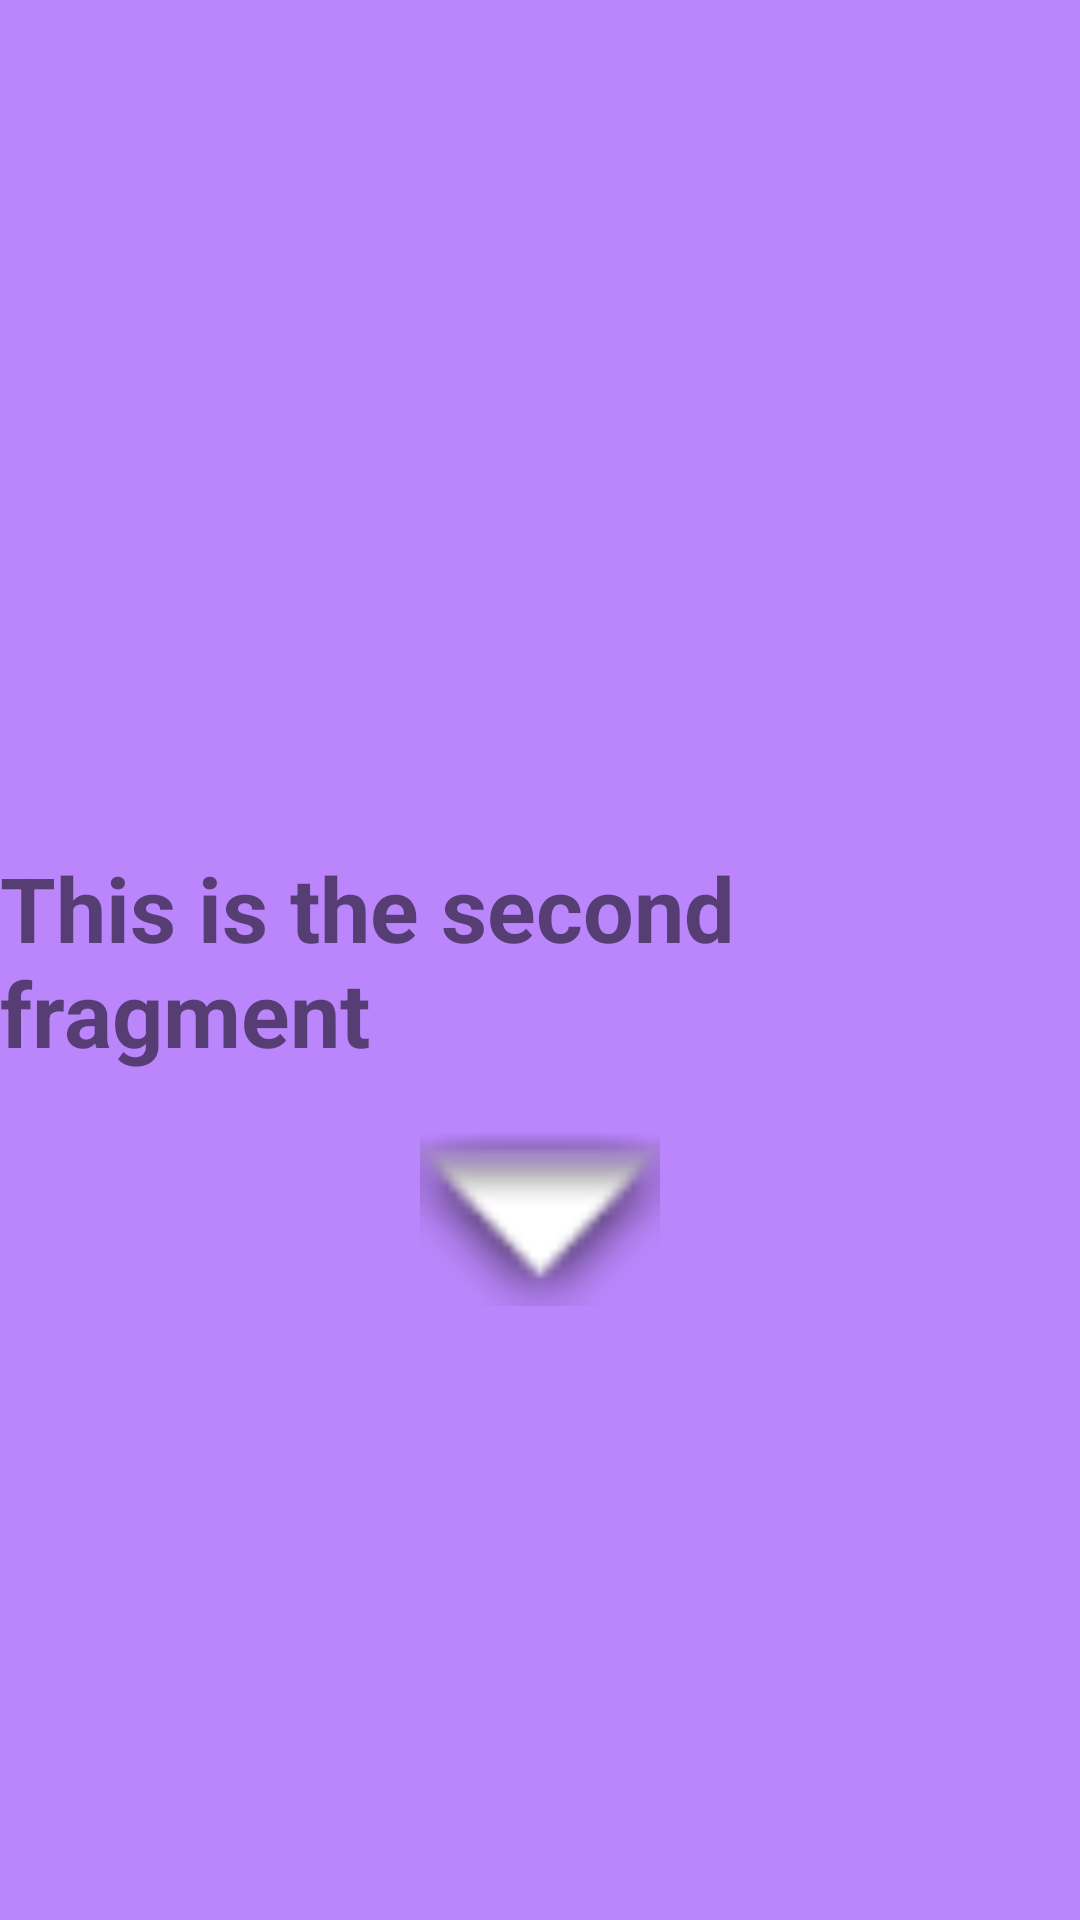

Where to tap for icons on this 1080*1920 app screen, as point (x, y):
arrow down float: point (540, 1219)
